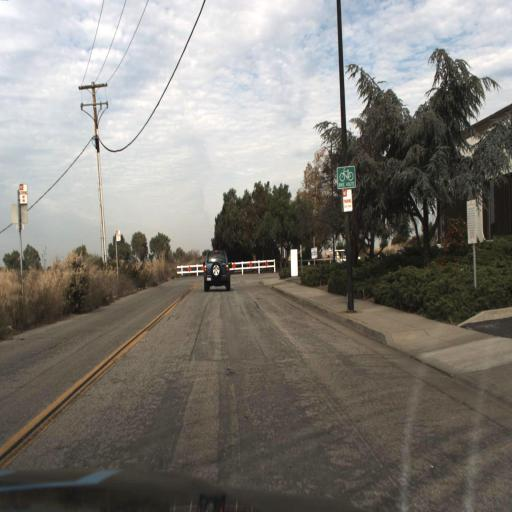car: (206, 249, 234, 288)
